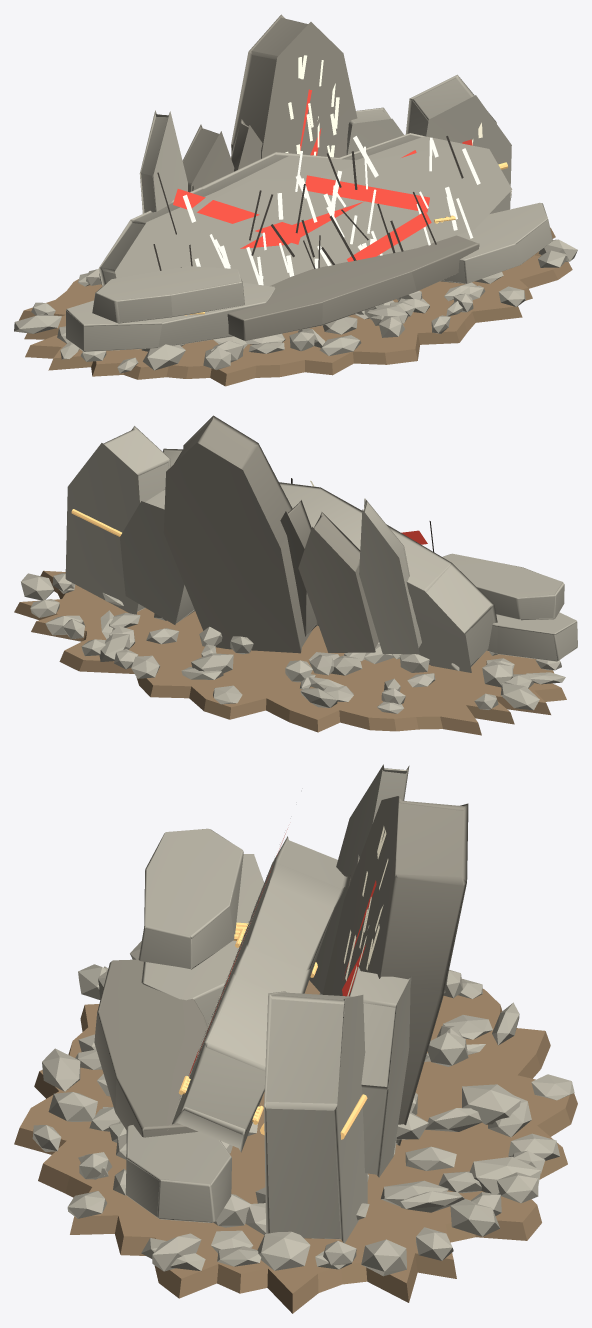
File: SM_GIA_BloodAxeCairnSlabCluster_A01_SculptedMidpolyV3.fbx
3 renders of one model, top to bottom at view 1: azimuth 30°, elevation 25°; view 2: azimuth 150°, elevation 25°; view 3: azimuth 270°, elevation 25°, orthographic. The views are drawn at different scales.
Visible parts, largest first — view 1: A1_Sculpted_MainPaintedFallenSlab_LOD0, A1_Sculpted_AshMudBase_LOD0, A1_Sculpted_RearTallBrokenSlab_LOD0, A1_Sculpted_FrontBrokenSupportSlab_LOD0, A1_Sculpted_LeftStackTopSlab_LOD0, A1_Sculpted_LeftStackLowSlab_LOD0, A1_Sculpted_RightBoundUpright_LOD0, A1_Sculpted_RightFrontRubbleSlab_LOD0, A1_Sculpted_BackLeftThinBlade_LOD0, A1_Sculpted_LeftRearShard_LOD0, A1_Sculpted_MainRedCrossB_LOD0, A1_Sculpted_MainRedCrossA_LOD0 (+8 smaller); view 2: A1_Sculpted_AshMudBase_LOD0, A1_Sculpted_RearTallBrokenSlab_LOD0, A1_Sculpted_RightBoundUpright_LOD0, A1_Sculpted_MainPaintedFallenSlab_LOD0, A1_Sculpted_LeftRearShard_LOD0, A1_Sculpted_BackLeftThinBlade_LOD0, A1_Sculpted_BackRightShoulderStone_LOD0, A1_Sculpted_LeftStackTopSlab_LOD0, A1_Sculpted_LeftStackLowSlab_LOD0, A1_Sculpted_CenterNeedleShard_LOD0, A1_Sculpted_Rubble_04_LOD0, A1_Sculpted_Rubble_105_LOD0 (+11 smaller); view 3: A1_Sculpted_AshMudBase_LOD0, A1_Sculpted_RightBoundUpright_LOD0, A1_Sculpted_RearTallBrokenSlab_LOD0, A1_Sculpted_MainPaintedFallenSlab_LOD0, A1_Sculpted_FrontBrokenSupportSlab_LOD0, A1_Sculpted_LeftStackTopSlab_LOD0, A1_Sculpted_RightFrontRubbleSlab_LOD0, A1_Sculpted_BackRightShoulderStone_LOD0, A1_Sculpted_LeftStackLowSlab_LOD0, A1_Sculpted_BackLeftThinBlade_LOD0, A1_Sculpted_Rubble_11_LOD0, A1_Sculpted_Rubble_57_LOD0 (+23 smaller).
Part boxes in pixels (<box>): A1_Sculpted_MainPaintedFallenSlab_LOD0: <box>98,133,512,286</box>; A1_Sculpted_AshMudBase_LOD0: <box>19,227,572,386</box>; A1_Sculpted_RearTallBrokenSlab_LOD0: <box>231,14,357,158</box>; A1_Sculpted_FrontBrokenSupportSlab_LOD0: <box>227,235,479,340</box>; A1_Sculpted_LeftStackTopSlab_LOD0: <box>92,266,244,323</box>; A1_Sculpted_LeftStackLowSlab_LOD0: <box>65,282,275,351</box>; A1_Sculpted_RightBoundUpright_LOD0: <box>405,74,511,213</box>; A1_Sculpted_RightFrontRubbleSlab_LOD0: <box>440,202,552,283</box>; A1_Sculpted_BackLeftThinBlade_LOD0: <box>139,110,187,213</box>; A1_Sculpted_LeftRearShard_LOD0: <box>182,124,234,192</box>; A1_Sculpted_MainRedCrossB_LOD0: <box>305,175,429,212</box>; A1_Sculpted_MainRedCrossA_LOD0: <box>173,189,302,244</box>; A1_Sculpted_AshMudBase_LOD0: <box>14,570,566,735</box>; A1_Sculpted_RearTallBrokenSlab_LOD0: <box>163,415,312,653</box>; A1_Sculpted_RightBoundUpright_LOD0: <box>65,426,170,614</box>; A1_Sculpted_MainPaintedFallenSlab_LOD0: <box>163,448,497,672</box>; A1_Sculpted_LeftRearShard_LOD0: <box>298,512,378,652</box>; A1_Sculpted_BackLeftThinBlade_LOD0: <box>359,498,421,654</box>; A1_Sculpted_BackRightShoulderStone_LOD0: <box>120,489,194,624</box>; A1_Sculpted_LeftStackTopSlab_LOD0: <box>442,553,564,620</box>; A1_Sculpted_LeftStackLowSlab_LOD0: <box>487,612,577,661</box>; A1_Sculpted_CenterNeedleShard_LOD0: <box>280,500,318,636</box>; A1_Sculpted_Rubble_04_LOD0: <box>501,683,539,710</box>; A1_Sculpted_Rubble_105_LOD0: <box>21,573,53,600</box>; A1_Sculpted_AshMudBase_LOD0: <box>14,980,577,1313</box>; A1_Sculpted_RightBoundUpright_LOD0: <box>264,991,367,1243</box>; A1_Sculpted_RearTallBrokenSlab_LOD0: <box>322,796,468,1145</box>; A1_Sculpted_MainPaintedFallenSlab_LOD0: <box>172,836,348,1152</box>; A1_Sculpted_FrontBrokenSupportSlab_LOD0: <box>94,959,207,1137</box>; A1_Sculpted_LeftStackTopSlab_LOD0: <box>138,828,243,969</box>; A1_Sculpted_RightFrontRubbleSlab_LOD0: <box>125,1125,231,1222</box>; A1_Sculpted_BackRightShoulderStone_LOD0: <box>350,967,411,1177</box>; A1_Sculpted_LeftStackLowSlab_LOD0: <box>141,854,263,1027</box>; A1_Sculpted_BackLeftThinBlade_LOD0: <box>309,764,409,994</box>; A1_Sculpted_Rubble_11_LOD0: <box>462,1084,520,1124</box>; A1_Sculpted_Rubble_57_LOD0: <box>257,1231,310,1270</box>.
Bounding box in the file's own units: 21925 × 35286 × 15604.
